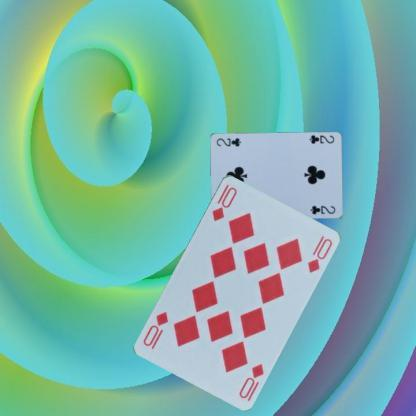10d: (236, 360, 266, 400), (209, 184, 238, 222)
2c: (306, 133, 336, 145)
